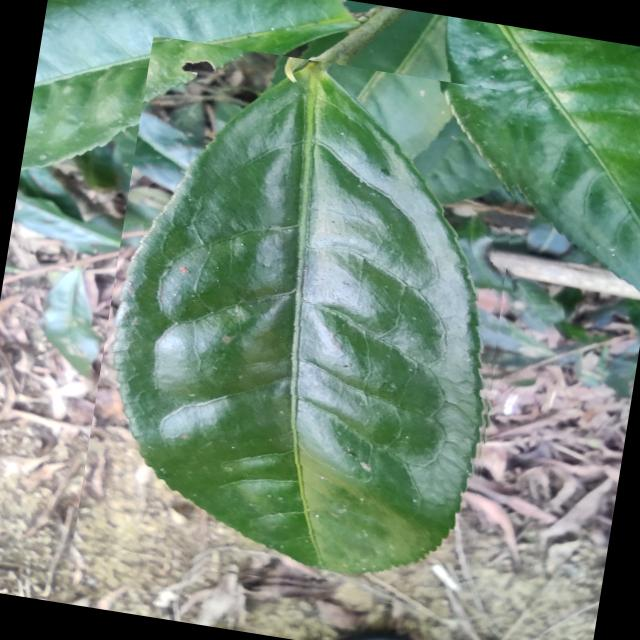Category D(7+ days, Not for Tea): (70, 36, 542, 616)
